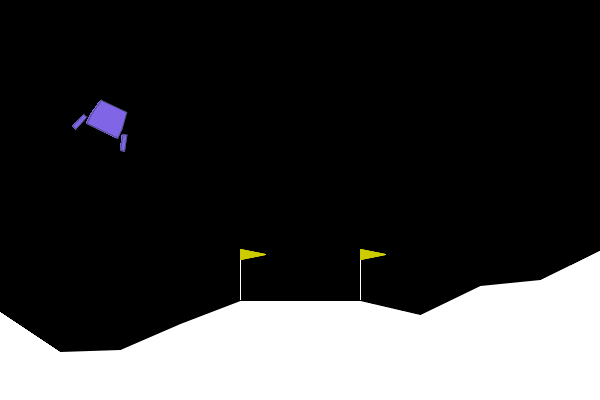lander: (70, 92, 142, 154)
